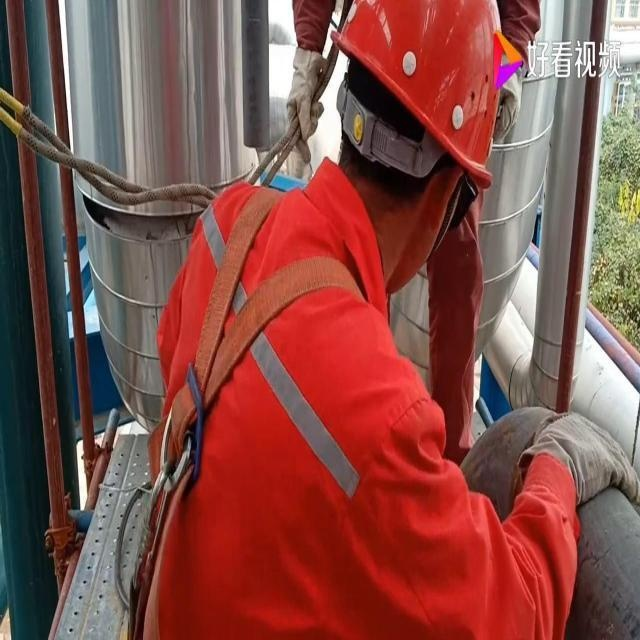Arnes_seguridad: (135, 163, 371, 639)
